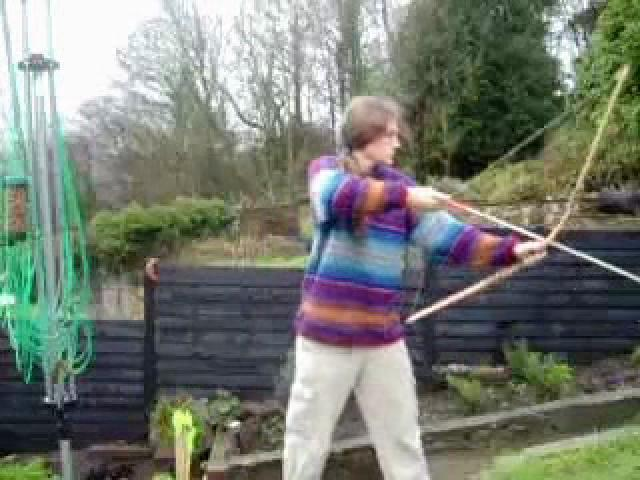I: (262, 77, 543, 480)
